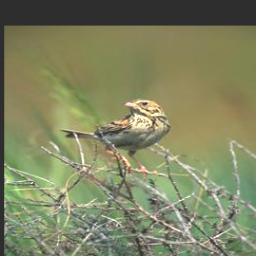Sparrow: (57, 98, 179, 181)
